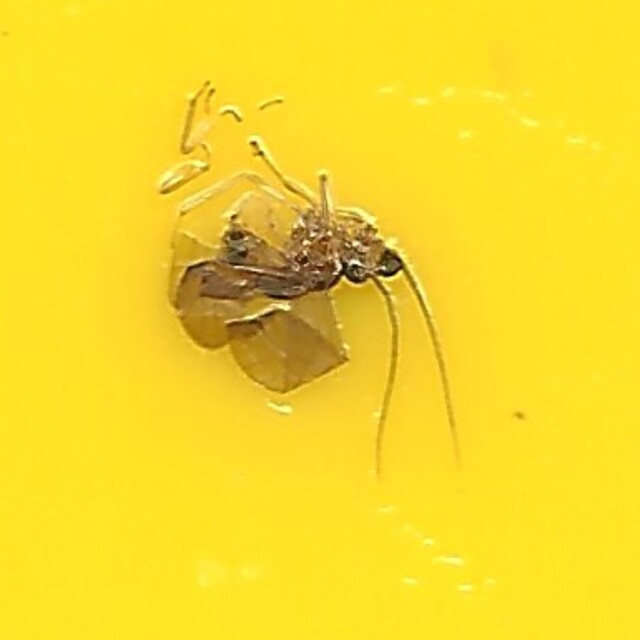Nematocera: (166, 172, 474, 468)
